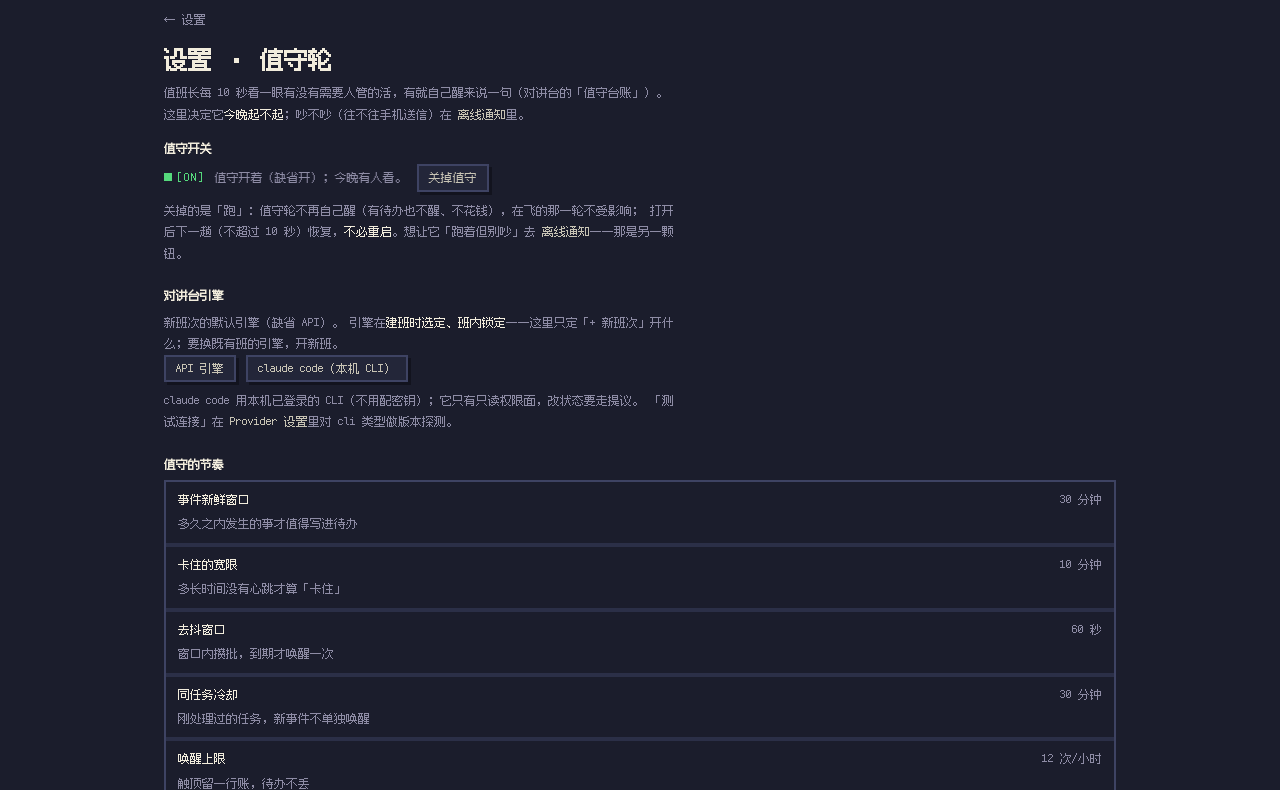
Test: SettingsForeman › 保存失败：报错不静默，读数以重读为准（本地猜测不冒充结果）
Click the button "关掉值守". click: x=453, y=178
box: [417,164,489,192]
(page scrolled)
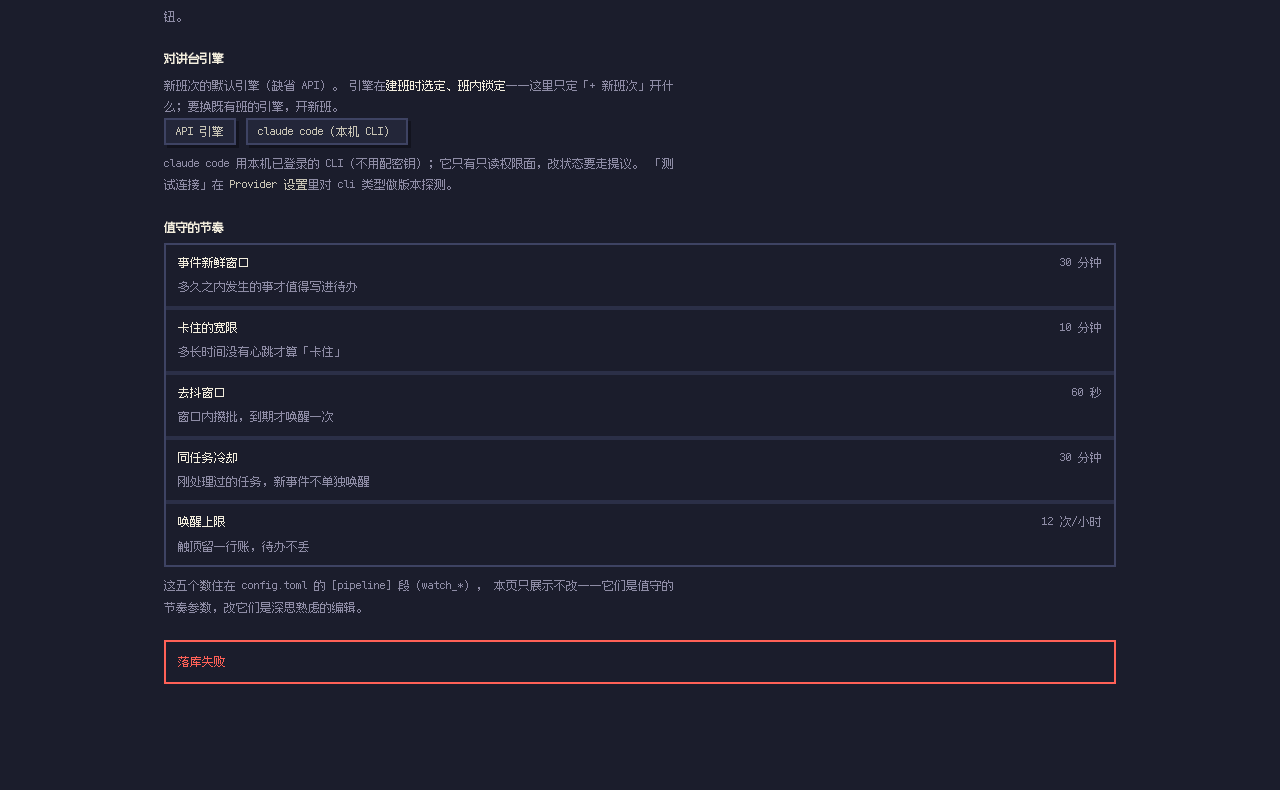
Expected: the message reads "落库失败", [178,655,226,667]
